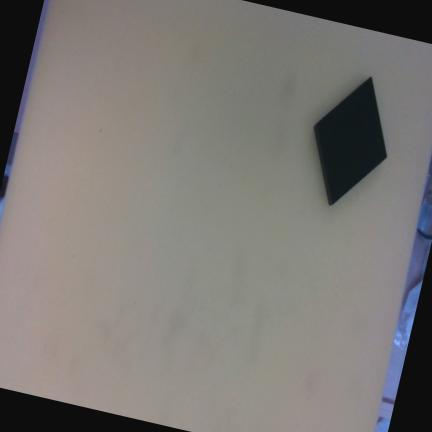tile: (308, 77, 394, 204)
